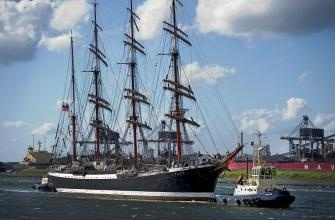fanchuan: (46, 1, 222, 190)
otherboat: (212, 156, 296, 205)
